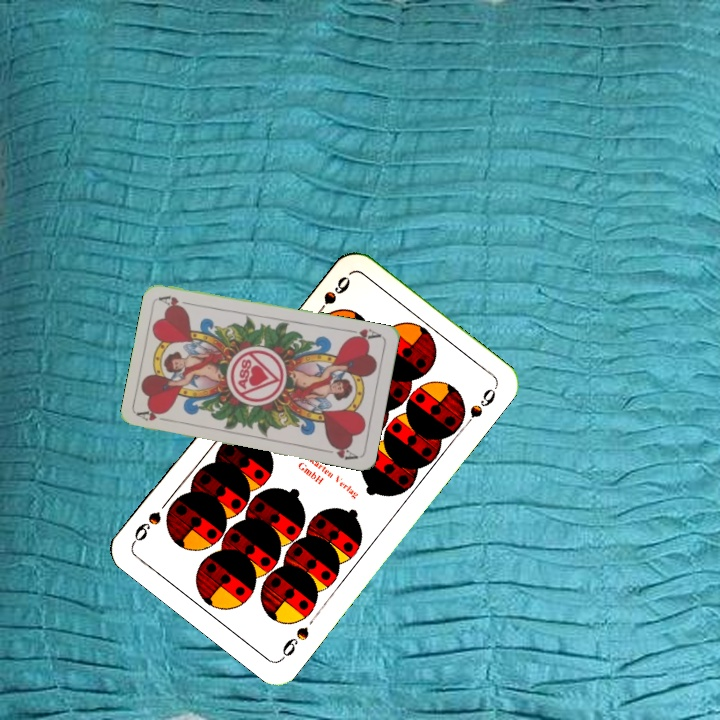HA: (135, 405, 175, 425), (343, 325, 384, 344)
S9: (310, 272, 353, 320), (277, 622, 312, 663)
